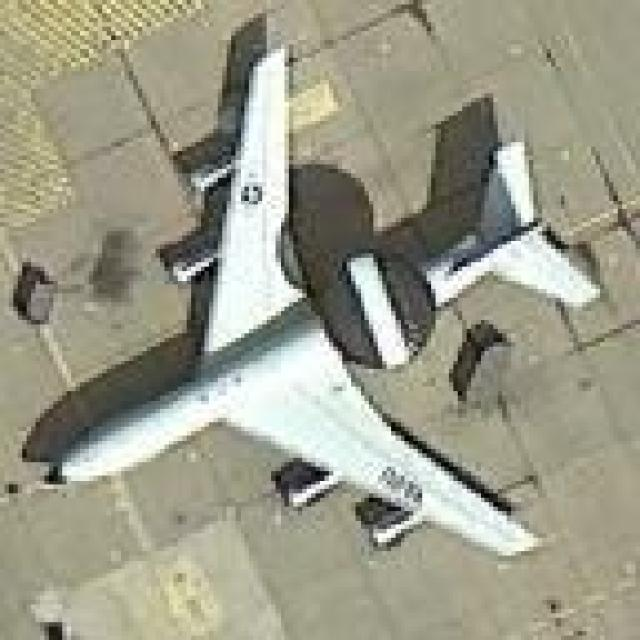E-3_TopDown: (13, 27, 608, 560)
